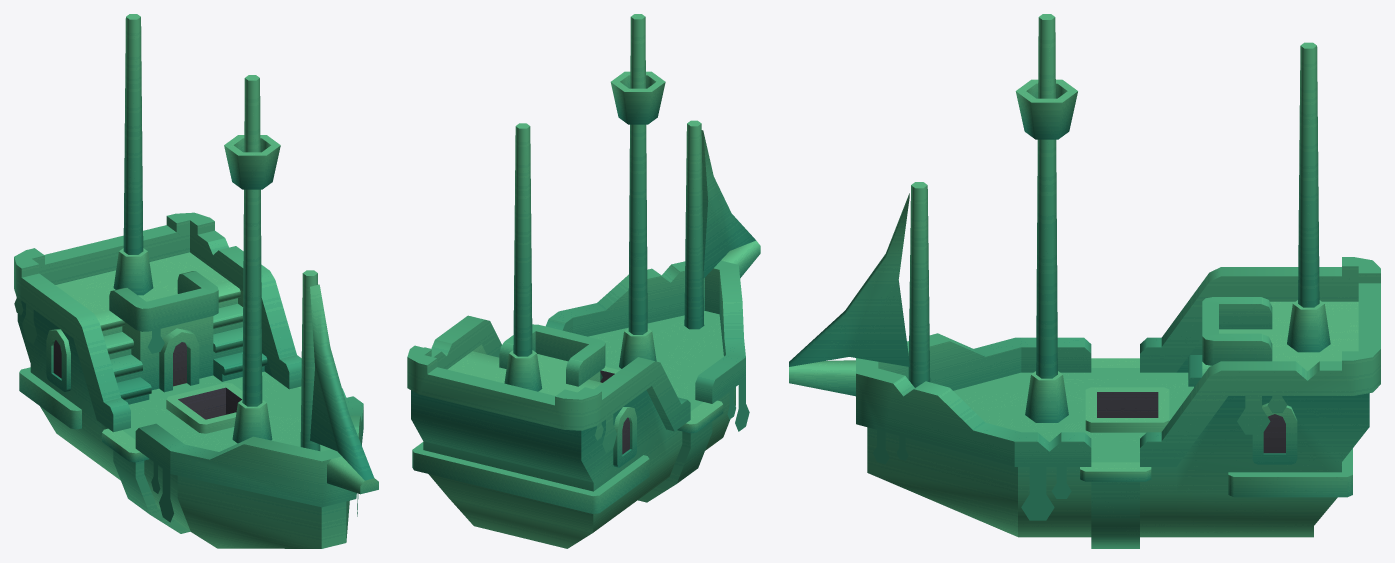
File: ship-ghost_lev2.glb
3 renders of one model, left to right at view 1: azimuth 30°, elevation 25°; view 2: azimuth 150°, elevation 25°; view 3: azimuth 270°, elevation 25°, orthographic. The views are drawn at different scales.
Visible parts, largest first — view 1: ship-ghost_lev2; view 2: ship-ghost_lev2; view 3: ship-ghost_lev2.
Boxes of the visible parts, bbox=[...] form: ship-ghost_lev2: bbox=[14, 14, 378, 548]; ship-ghost_lev2: bbox=[407, 14, 760, 548]; ship-ghost_lev2: bbox=[789, 14, 1380, 548].
Size of the model in its own units: 6.1 by 12.66 by 13.47.
1 material, 1 textured.
